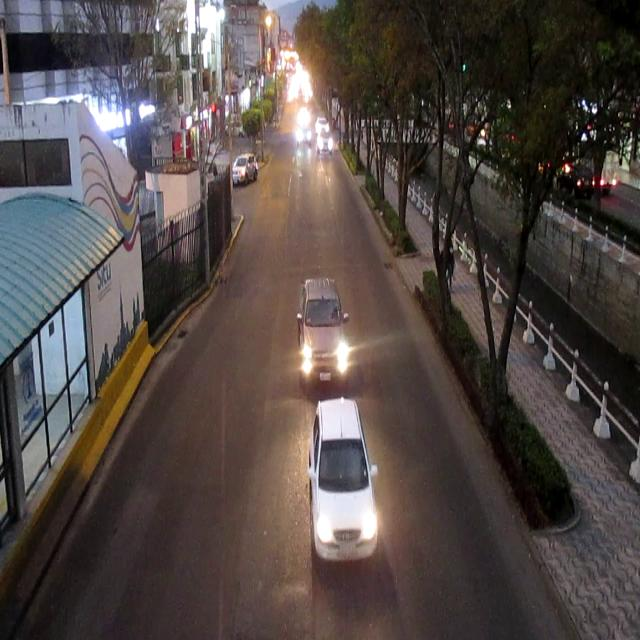SUV: (314, 400, 373, 565), (298, 279, 347, 391), (234, 156, 258, 186)
